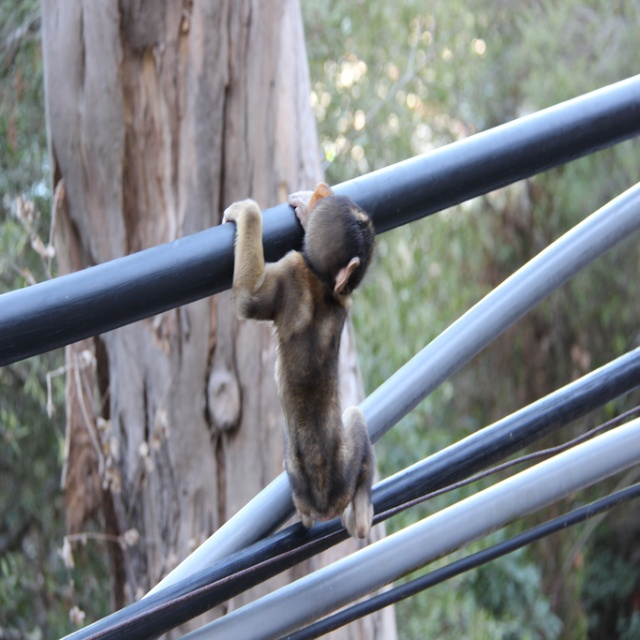Monkey: (218, 174, 395, 561)
